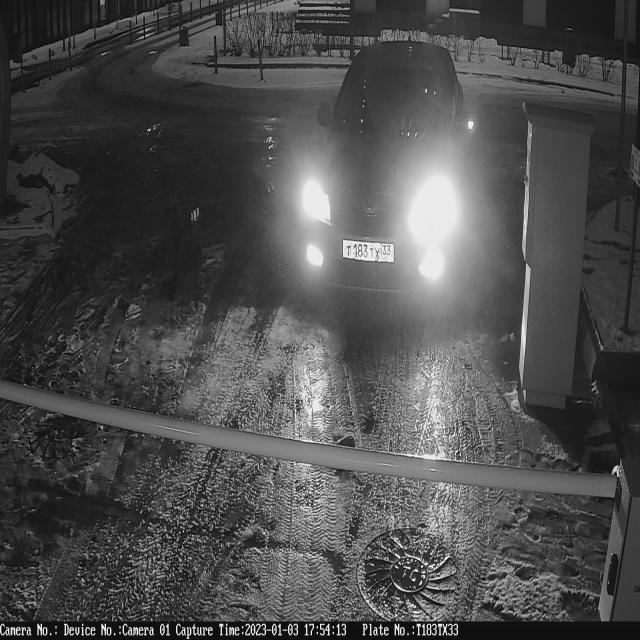car-plate-numbers: (341, 236, 398, 268)
